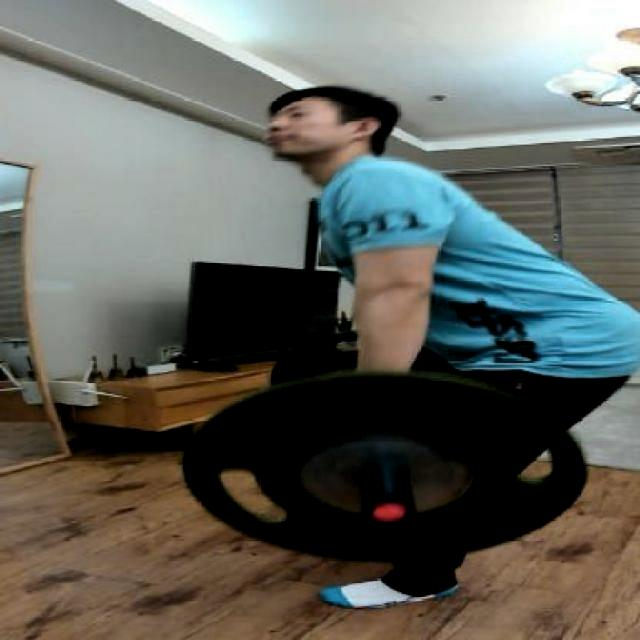barbell: (177, 362, 592, 569)
